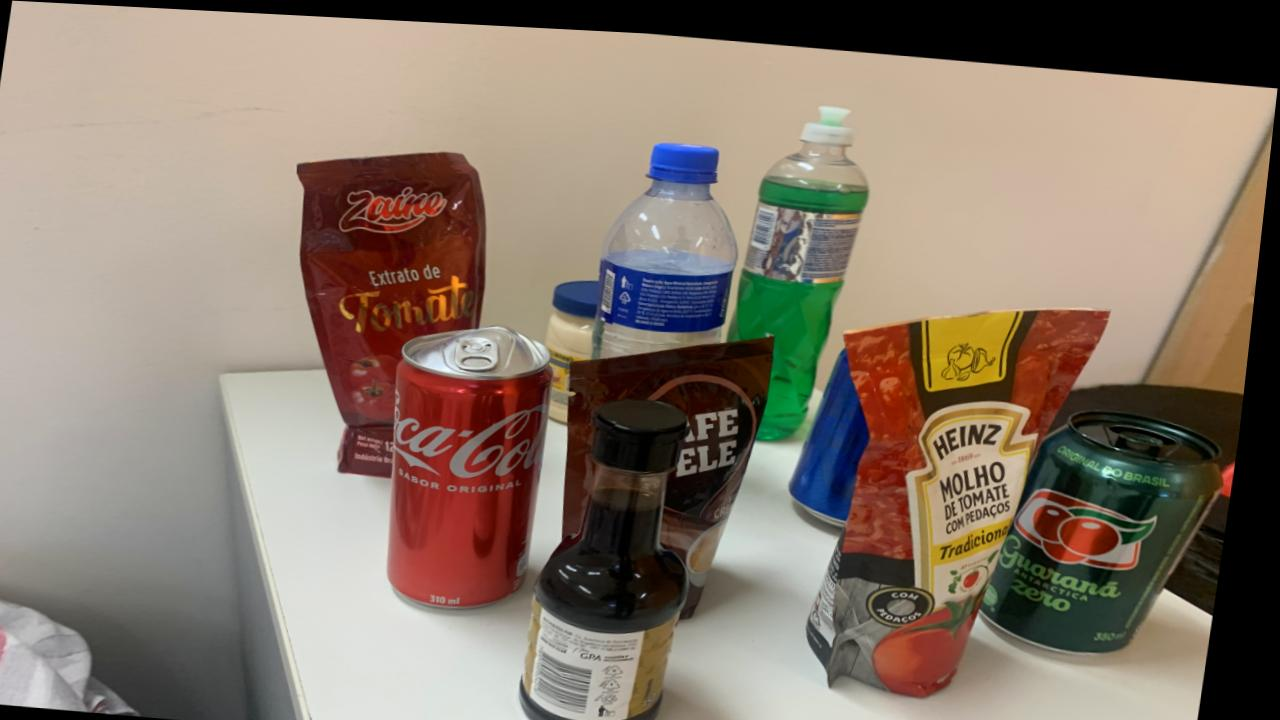Coffee-Pantry_Items: (573, 328, 781, 610)
Coke-Drinks: (399, 322, 560, 603)
Detergent-Cleanup_Items: (734, 97, 873, 432)
English_Sauce-Pantry_Items: (534, 392, 701, 720)
Guarana_Can-Drinks: (994, 397, 1231, 641)
Mayonnaise-Pantry_Items: (551, 273, 607, 416)
Tomato_Sauce-Pantry_Items: (820, 296, 1114, 687), (301, 147, 492, 472)
Water_Bottle-Drinks: (599, 135, 744, 351)
